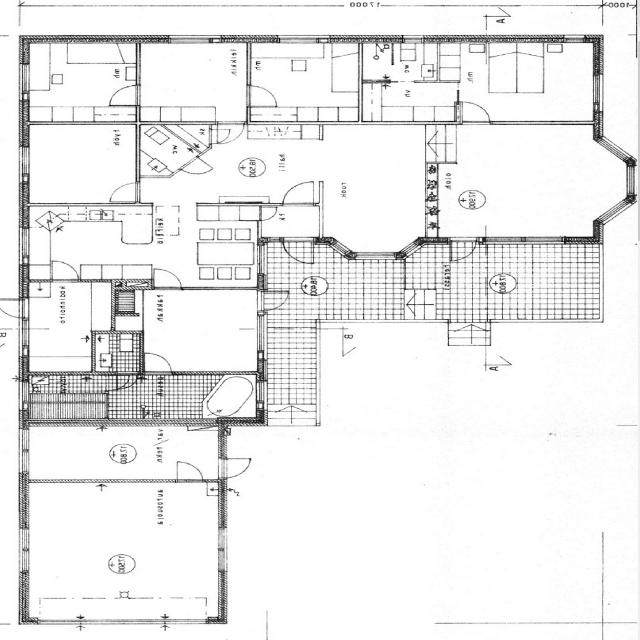door: (180, 156, 214, 181), (283, 237, 314, 263), (284, 182, 314, 206), (257, 290, 292, 310), (218, 459, 254, 478), (144, 352, 172, 375), (246, 86, 278, 106), (463, 102, 490, 125), (154, 268, 182, 290), (108, 86, 140, 105), (450, 237, 476, 260), (218, 122, 244, 144), (52, 260, 78, 282), (0, 299, 30, 318), (110, 183, 140, 202), (177, 462, 203, 482), (117, 371, 138, 390), (106, 376, 130, 390), (209, 130, 232, 144), (260, 207, 280, 220)
